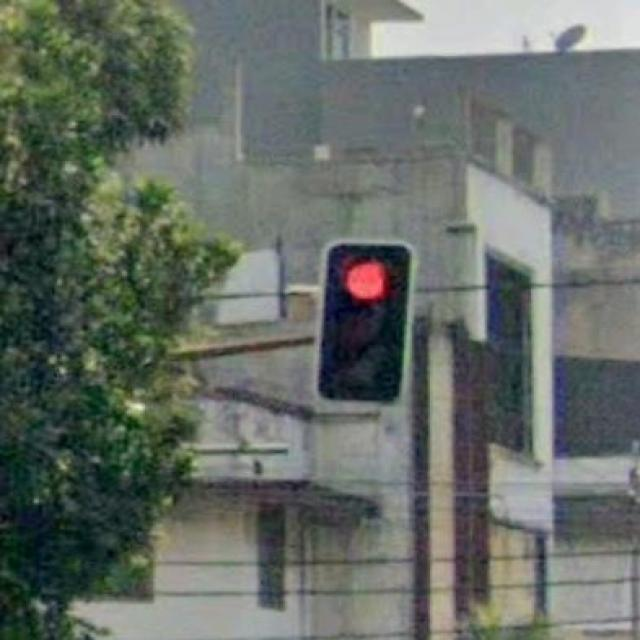red_light: (328, 245, 403, 402)
